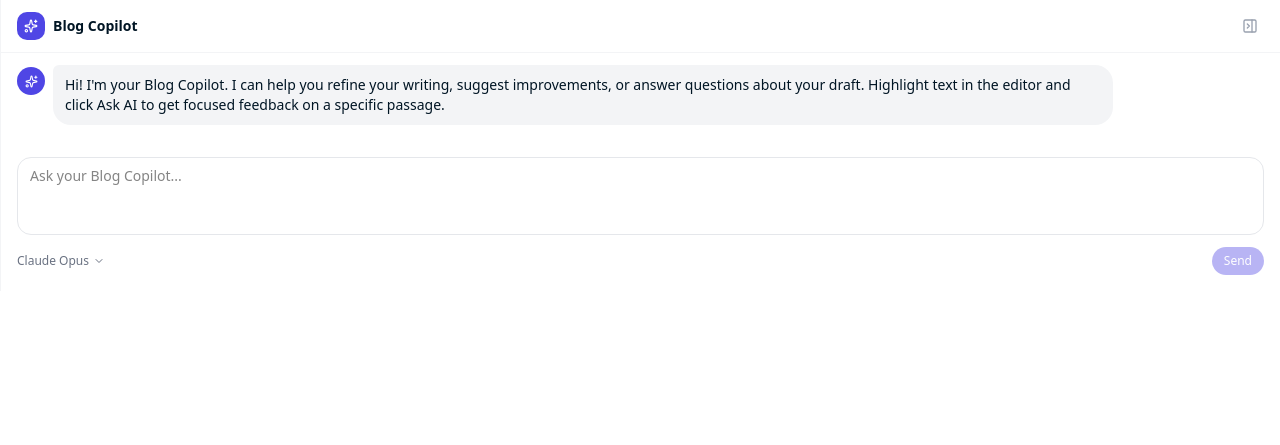
EditorChat › streams assistant response after sending a message
Type "Help me write" into the text box at [640, 196], box [17,157,1264,235]
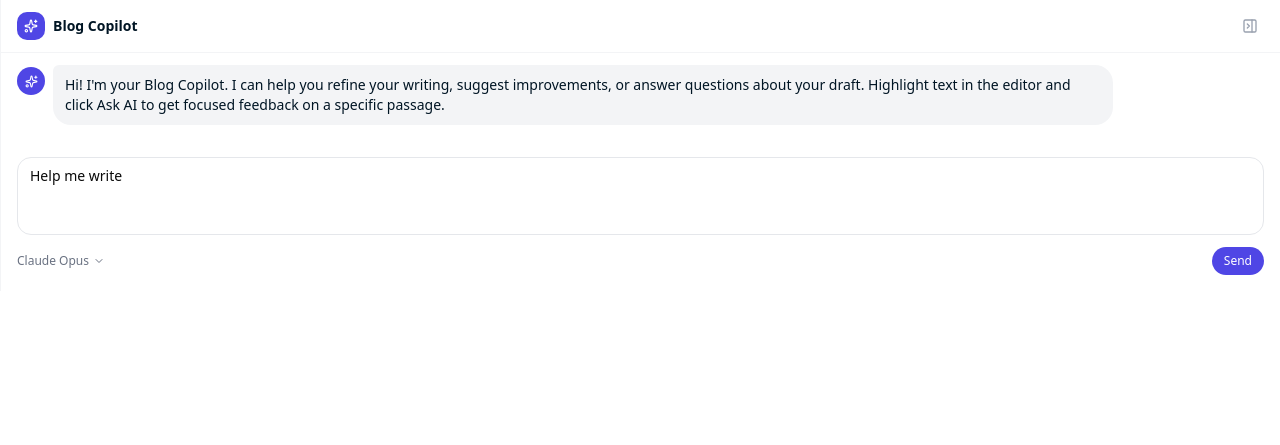
Press Enter in the text box, box [17,157,1264,235]
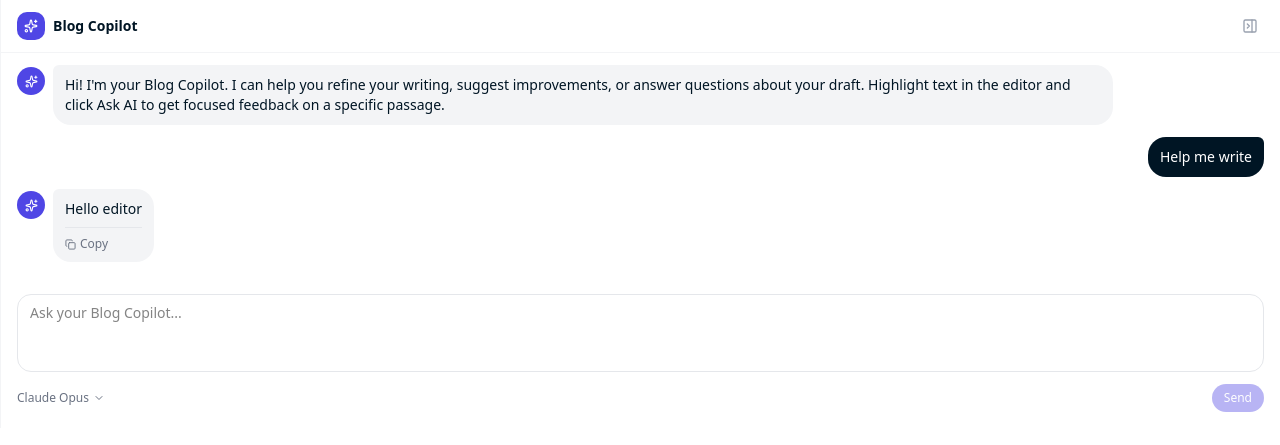
Check: the text "Hello editor" is shown, box [65,199,142,219]
